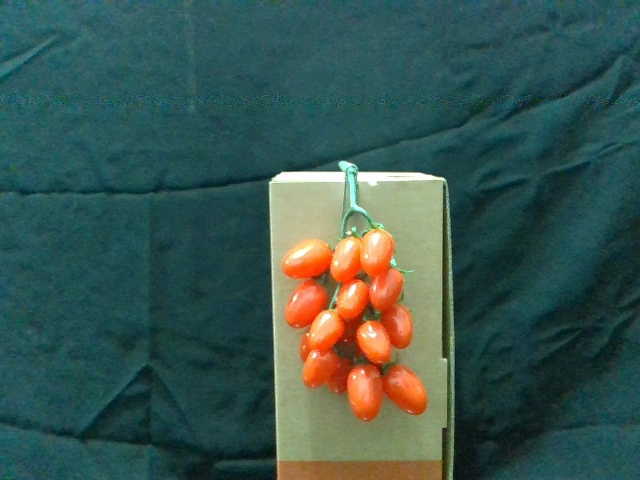tomato: (383, 363, 430, 417), (283, 280, 329, 331), (279, 237, 335, 278), (348, 363, 385, 423), (354, 319, 393, 365), (301, 348, 341, 392), (309, 309, 347, 355), (329, 235, 363, 286), (360, 227, 395, 276), (379, 303, 415, 349), (370, 267, 404, 314)
